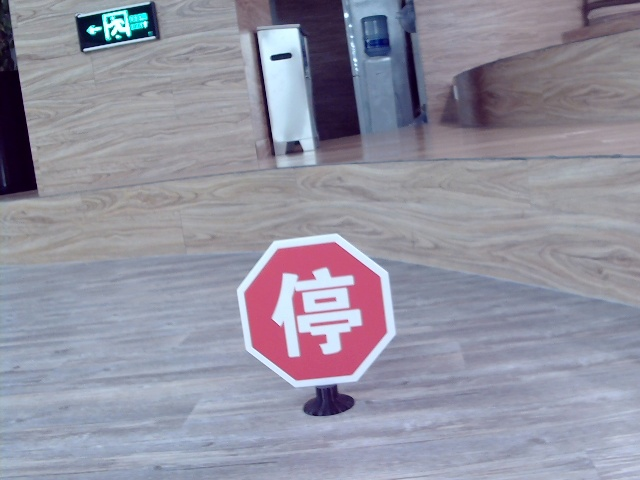stop: (264, 268, 365, 359)
